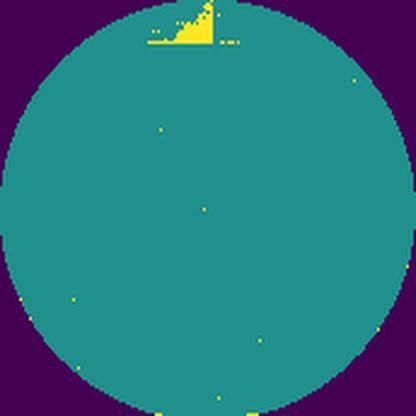Loc: (148, 0, 215, 45)
